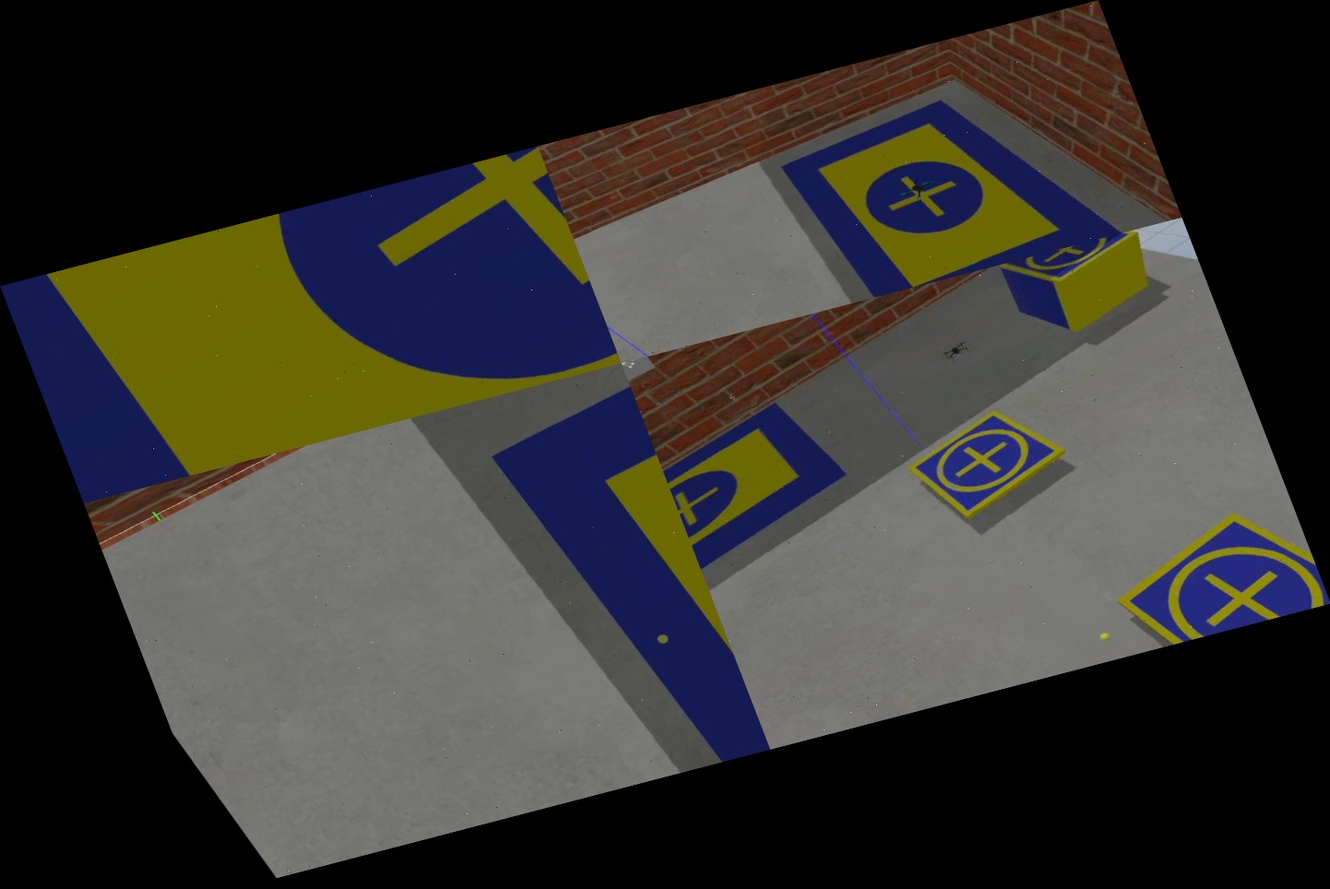large_base: (0, 146, 622, 503), (466, 363, 770, 789), (757, 41, 1130, 308), (647, 385, 898, 615)
small_base: (1090, 484, 1330, 653), (890, 389, 1087, 531), (996, 229, 1154, 304)
